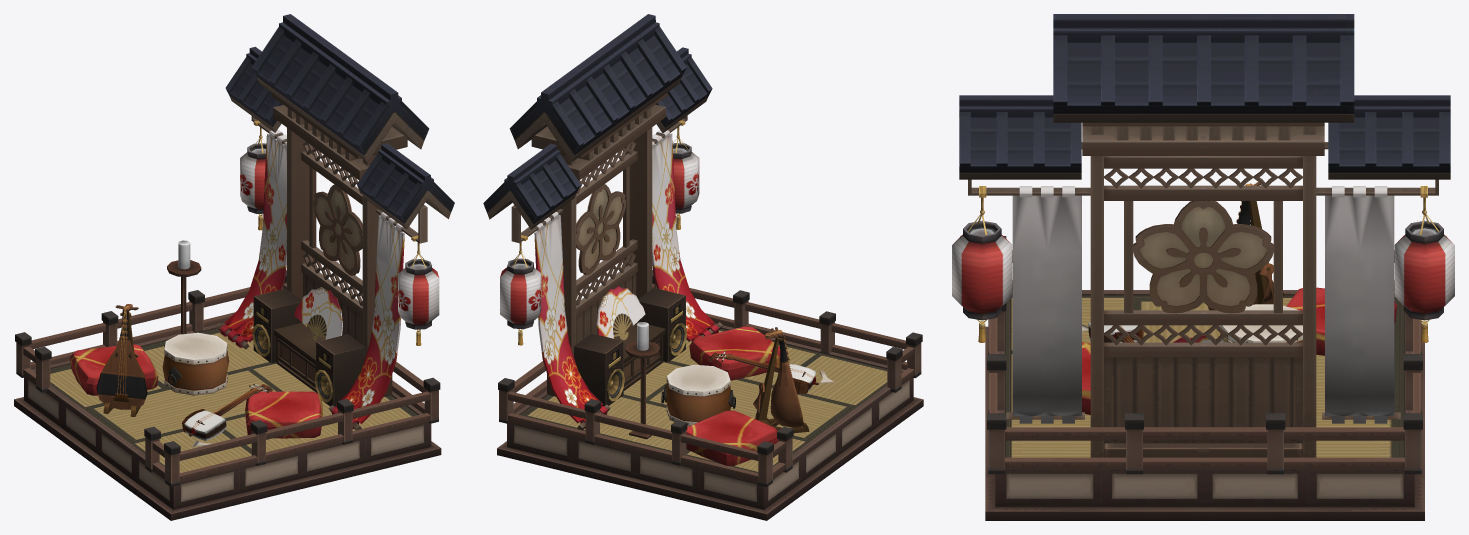
Rendered from my_event064_shrine.glb.
3 views of the same model, side by side, from view 1: azimuth 30°, elevation 25°; view 2: azimuth 150°, elevation 25°; view 3: azimuth 270°, elevation 25° (orthographic). The views are drawn at different scales.
Parts seen in each view (by area): view 1: my_event064_shrine; view 2: my_event064_shrine; view 3: my_event064_shrine.
Boxes of the visible parts, <box> form: my_event064_shrine: <box>14,14,454,520</box>; my_event064_shrine: <box>483,14,923,520</box>; my_event064_shrine: <box>952,14,1454,520</box>.
Size of the model in its own units: 0.0162 by 0.0191 by 0.0178.
Materials: 1 (1 with a texture image).
